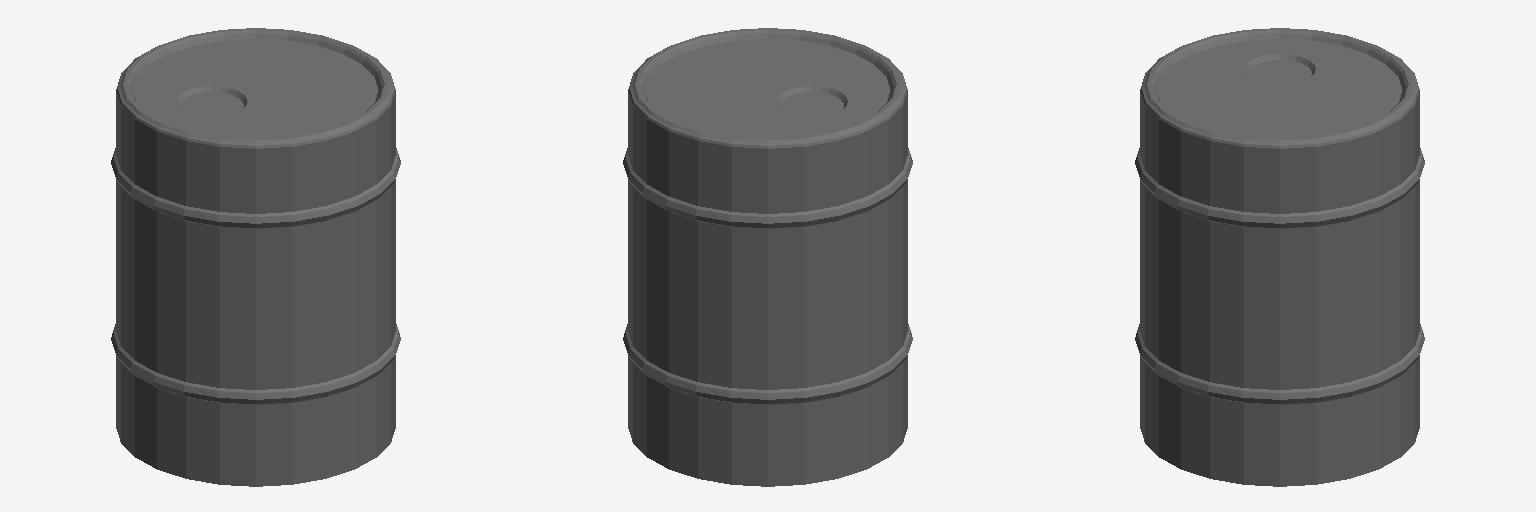
The model's file is oil_barrel.obj.
3 renders of one model, left to right at view 1: azimuth 30°, elevation 25°; view 2: azimuth 150°, elevation 25°; view 3: azimuth 270°, elevation 25°, orthographic.
Visible parts, largest first — view 1: Mesh; view 2: Mesh; view 3: Mesh.
Part boxes in pixels (x1,y1,x2,y2): Mesh: (111,28,400,486); Mesh: (623,28,912,486); Mesh: (1135,28,1424,486).
Bounding box in the file's own units: 1.44 × 1.88 × 1.44.